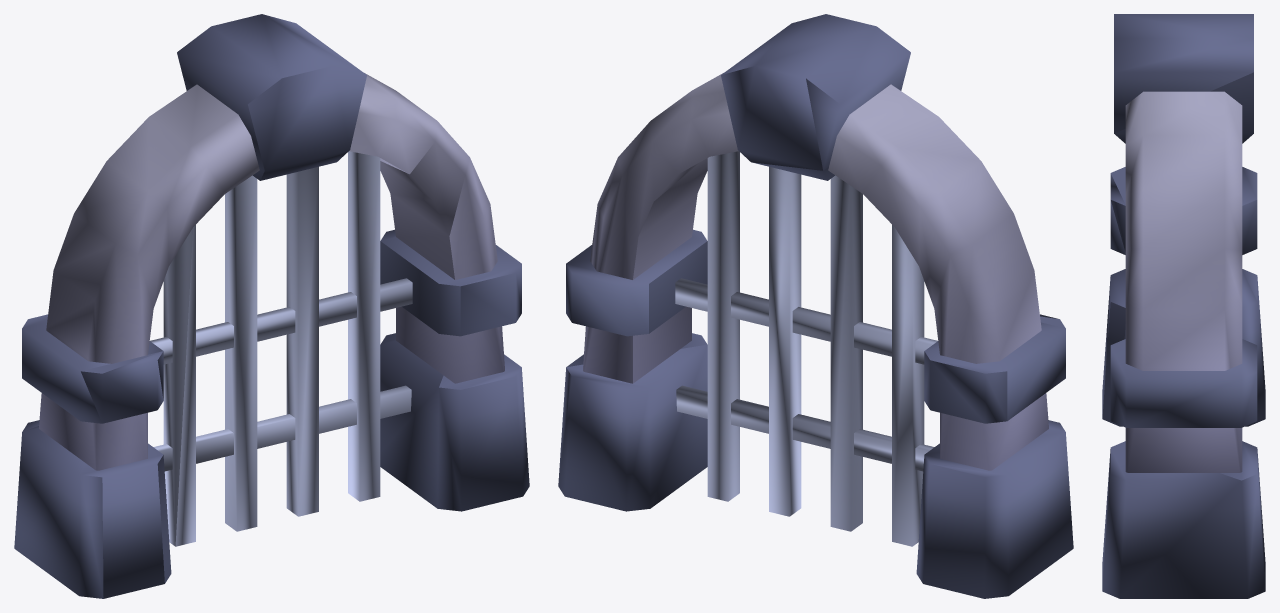
Rendered from gate-metal-bars.fbx.
3 views of the same model, side by side, from view 1: azimuth 30°, elevation 25°; view 2: azimuth 150°, elevation 25°; view 3: azimuth 270°, elevation 25° (orthographic).
Parts seen in each view (by area): view 1: gate-metal-bars, gate; view 2: gate-metal-bars, gate; view 3: gate-metal-bars.
Part boxes in pixels (bbox=[...]): gate-metal-bars: bbox=[14, 14, 529, 598]; gate: bbox=[150, 151, 412, 546]; gate-metal-bars: bbox=[558, 14, 1073, 598]; gate: bbox=[675, 151, 937, 546]; gate-metal-bars: bbox=[1102, 14, 1265, 598].
Bounding box in the file's own units: 440 × 440 × 140.
